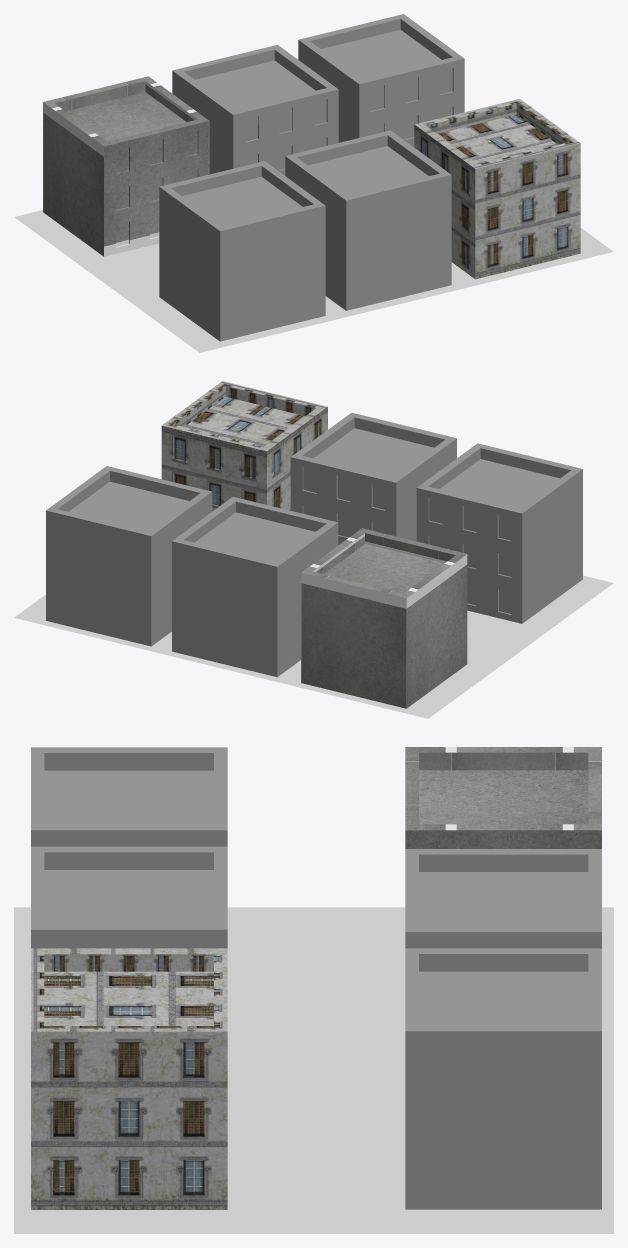
File: Build.fbx
3 views of the same model, one above another, from view 1: azimuth 30°, elevation 25°; view 2: azimuth 150°, elevation 25°; view 3: azimuth 270°, elevation 25° (orthographic). The views are drawn at different scales.
Parts seen in each view (by area): view 1: Buil.006, Buil.003, Buil.004, Buil.005, Buil.001, Buil.002, Plane; view 2: Buil.003, Buil.006, Buil.001, Buil.002, Buil.004, Buil.005, Plane; view 3: Plane, Buil.002, Buil.004, Buil.005, Buil.003, Buil.001, Buil.006.
Boxes of the visible parts, x1,y1,x2,y2 form: Buil.006: (159,161,325,341); Buil.003: (43,76,209,256); Buil.004: (414,99,580,279); Buil.005: (285,130,451,310); Buil.001: (172,45,338,175); Buil.002: (298,14,464,146); Plane: (14,210,613,352); Buil.003: (301,528,467,708); Buil.006: (416,443,582,623); Buil.001: (172,497,338,677); Buil.002: (46,466,212,646); Buil.004: (161,381,327,511); Buil.005: (290,412,456,544); Plane: (14,575,613,718); Plane: (14,907,613,1233); Buil.002: (405,948,601,1209); Buil.004: (31,948,227,1209); Buil.005: (31,846,227,948); Buil.003: (405,747,601,848); Buil.001: (405,849,601,948); Buil.006: (31,747,227,846).
Size of the model in its own units: 1927 by 496 by 1496.
4 materials, 2 textured.
